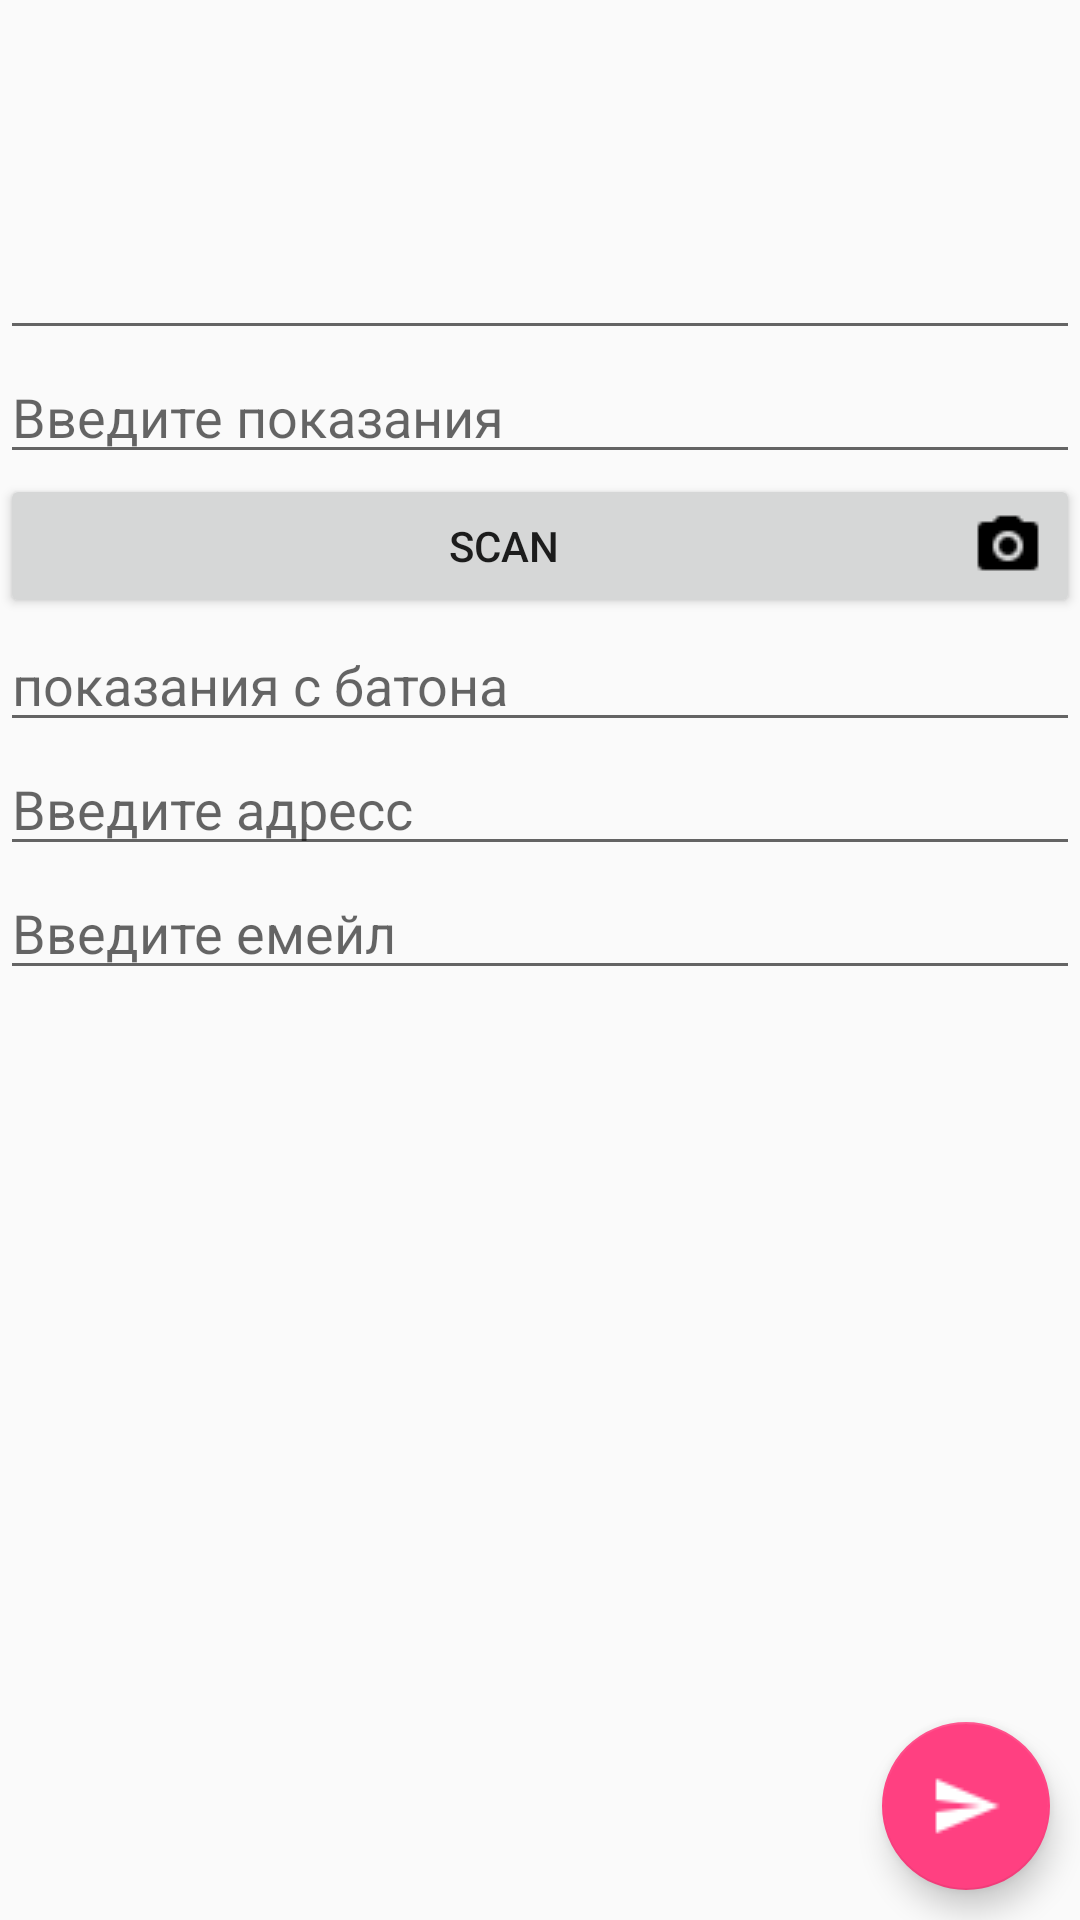

Named icons in this screenshot (1080×1920) and their centers, [x,y]:
send: [966,1806]
